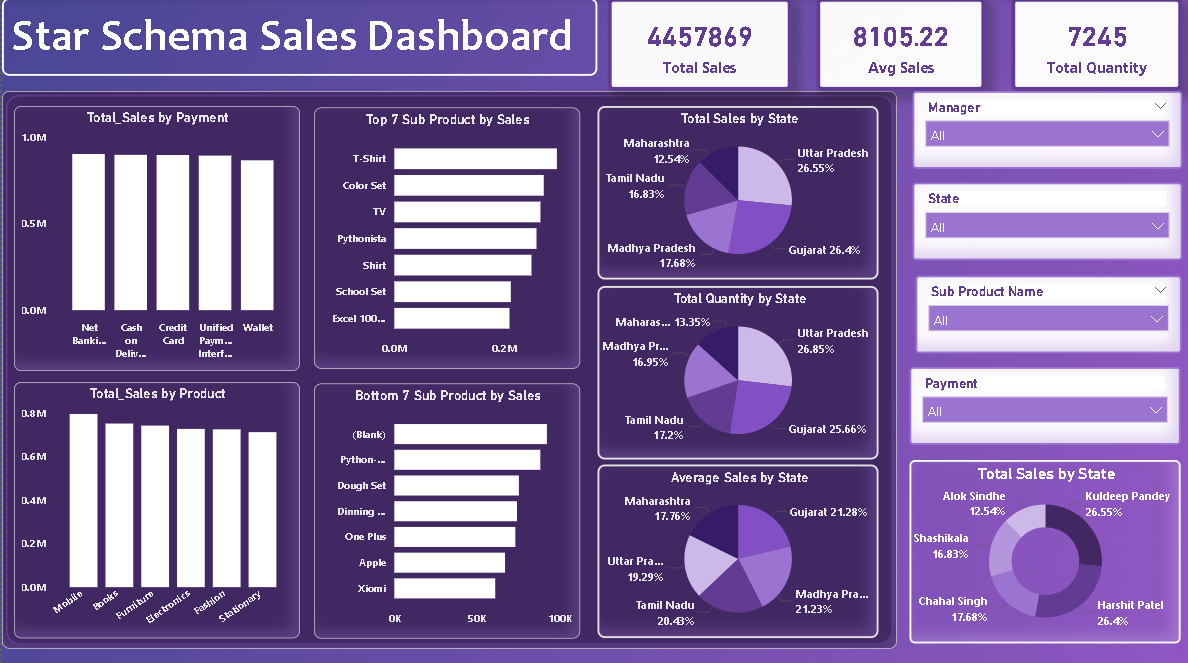

The dashboard page shown, as its layout file describes it:
{"tool":"powerbi","page":{"name":"Page 1","canvas":[1280,720],"ordinal":0},"visuals":[{"type":"textbox","box":[0,0,642.9,83.9],"z":0},{"type":"shape","box":[0,100,966.1,601.8],"z":1000},{"type":"clusteredColumnChart","title":"Total_Sales by Payment","fields":{"Category":["Dim_Payment.Description"],"Y":["Sum(Sales_Data.Sales Amount)"]},"box":[12.5,116.1,308.9,285.7],"z":2000},{"type":"clusteredColumnChart","title":"Total_Sales by Product","fields":{"Category":["Dim_Product.Product Name"],"Y":["Sum(Sales_Data.Sales Amount)"]},"box":[12.5,414.3,308.9,276.8],"z":3000},{"type":"clusteredBarChart","title":"Top 7 Sub Product by Sales","fields":{"Category":["Dim_SubProduct.Sub Product Name"],"Y":["Sum(Sales_Data.Sales Amount)"]},"box":[337.5,117.9,287.5,282.1],"z":4000},{"type":"clusteredBarChart","title":"Bottom 7 Sub Product by Sales","fields":{"Category":["Dim_SubProduct.Sub Product Name"],"Y":["Sum(Sales_Data.Sales Amount)"]},"box":[337.5,416.1,287.5,275],"z":5000},{"type":"pieChart","title":"Total Sales by State","fields":{"Category":["Dim_State.State"],"Y":["Sum(Sales_Data.Sales Amount)"]},"box":[642.9,116.1,303.6,187.5],"z":6000},{"type":"card","fields":{"Values":["Sum(Sales_Data.Sales Amount)"]},"box":[653.6,0,198.2,100],"z":7000},{"type":"card","fields":{"Values":["Avg(Sales_Data.Sales Amount)"]},"box":[878.6,0,182.1,100],"z":8000},{"type":"card","fields":{"Values":["Sum(Sales_Data.Order Qty)"]},"box":[1089.3,0,183.9,100],"z":9000},{"type":"pieChart","title":"Total Quantity by State","fields":{"Category":["Dim_State.State"],"Y":["Sum(Sales_Data.Order Qty)"]},"box":[642.9,310.7,303.6,187.5],"z":10000},{"type":"pieChart","title":"Average Sales by State","fields":{"Category":["Dim_State.State"],"Y":["Avg(Sales_Data.Sales Amount)"]},"box":[642.9,503.6,303.6,187.5],"z":11000},{"type":"donutChart","title":"Total Sales by State","fields":{"Category":["Sales_Data.Manager"],"Y":["Sum(Sales_Data.Sales Amount)"]},"box":[980.4,498.2,292.9,198.2],"z":12000},{"type":"slicer","fields":{"Values":["Sales_Data.Manager"]},"box":[982.1,100,291.1,83.9],"z":13000},{"type":"slicer","fields":{"Values":["Dim_State.State"]},"box":[982.1,199.6,291.1,83.9],"z":14000},{"type":"slicer","fields":{"Values":["Dim_SubProduct.Sub Product Name"]},"box":[985.7,299.1,287.5,83.9],"z":15000},{"type":"slicer","fields":{"Values":["Dim_Payment.Payment Mode Code"]},"box":[980.4,398.7,292.9,83.9],"z":16000}]}

Visuals, with their boxes in screenshot pixels (x1, y1, x2, y2), scaled from the page's 1280x720 canvas onto the 1188x663 screenshot:
textbox: (0,0,597,77)
shape: (0,92,897,646)
"Total_Sales by Payment" clusteredColumnChart: (12,107,298,370)
"Total_Sales by Product" clusteredColumnChart: (12,382,298,636)
"Top 7 Sub Product by Sales" clusteredBarChart: (313,109,580,368)
"Bottom 7 Sub Product by Sales" clusteredBarChart: (313,383,580,636)
"Total Sales by State" pieChart: (597,107,878,280)
card - Sum(Sales_Data.Sales Amount): (607,0,791,92)
card - Avg(Sales_Data.Sales Amount): (815,0,984,92)
card - Sum(Sales_Data.Order Qty): (1011,0,1182,92)
"Total Quantity by State" pieChart: (597,286,878,459)
"Average Sales by State" pieChart: (597,464,878,636)
"Total Sales by State" donutChart: (910,459,1182,641)
slicer - Sales_Data.Manager: (912,92,1182,169)
slicer - Dim_State.State: (912,184,1182,261)
slicer - Dim_SubProduct.Sub Product Name: (915,275,1182,353)
slicer - Dim_Payment.Payment Mode Code: (910,367,1182,444)
